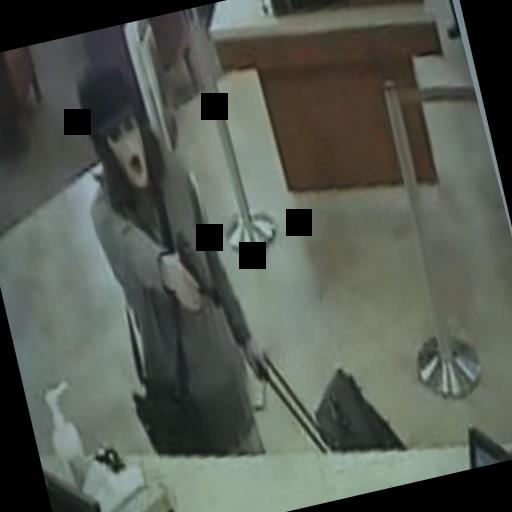Handgun: (165, 222, 224, 318)
